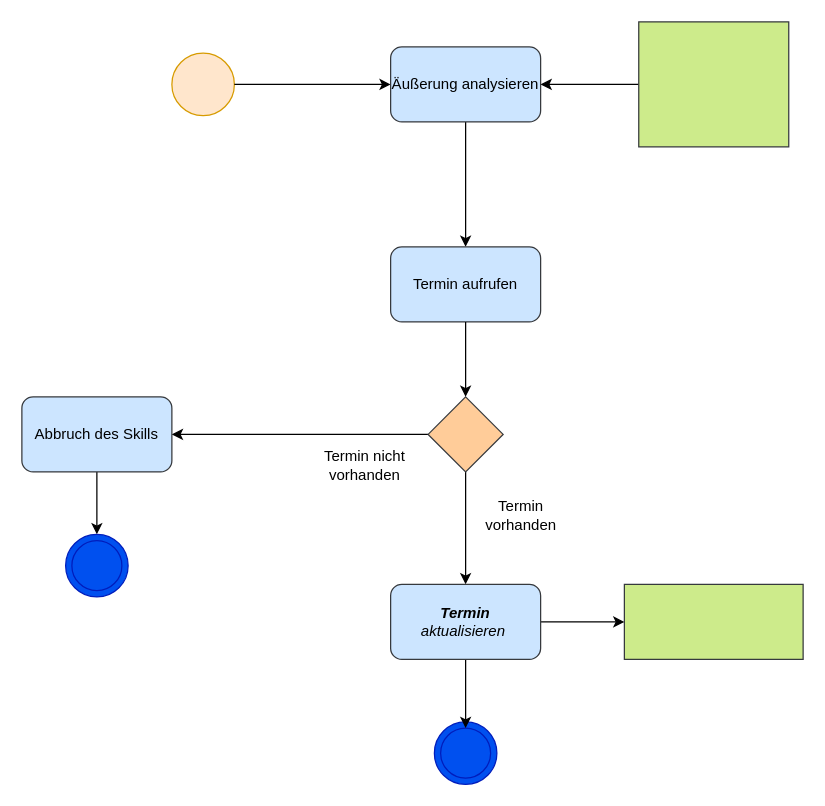
Some shapes in this 825 by 806 pixel diagram are drawn without their labels. The shapes that lost their labels are listed below. From the top down, each one's centre as x and y in pixels, then its label:
(713,84): 'Alexa ändere Termineigenschaft zu Termineigenschaft in Termin '
(713,621): ' Termin wurde aktualisiert '
